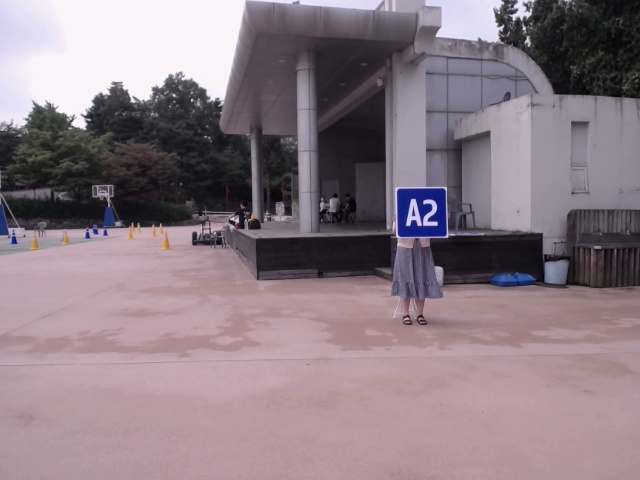delivery_a2: (395, 187, 448, 238)
